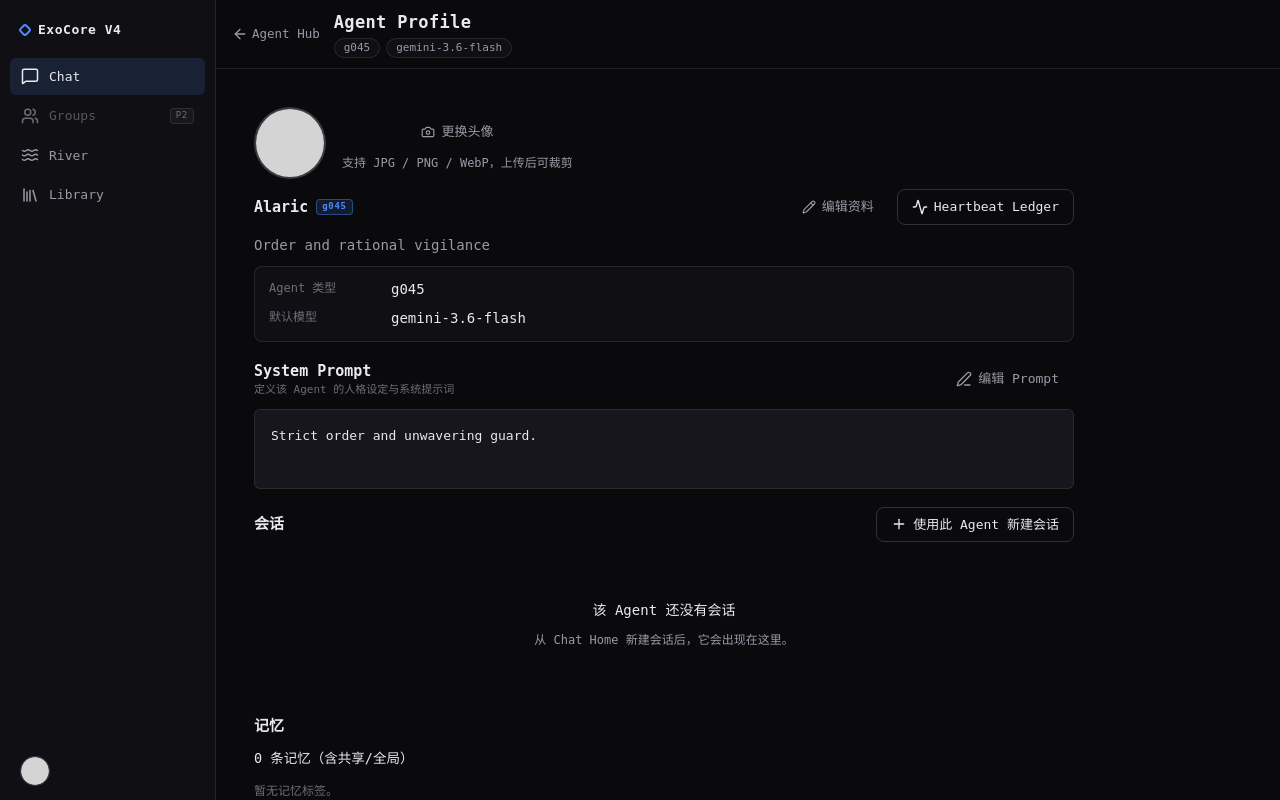
it: V4 Agent Profile Editing (Name, Bio, Model, Avatar) › renders avatar preview, edit profile button, and opens AgentEditDialog with current data
Expected: the heading "Alaric g045" is shown, x1=254 y1=196 x2=353 y2=218
Expected: the button "更换头像" is shown, x1=342 y1=114 x2=573 y2=150
What coordinates should you click on to do the following:
click the button "编辑资料"
I would click on:
 (838, 207)
Its box is x1=787 y1=189 x2=889 y2=224.
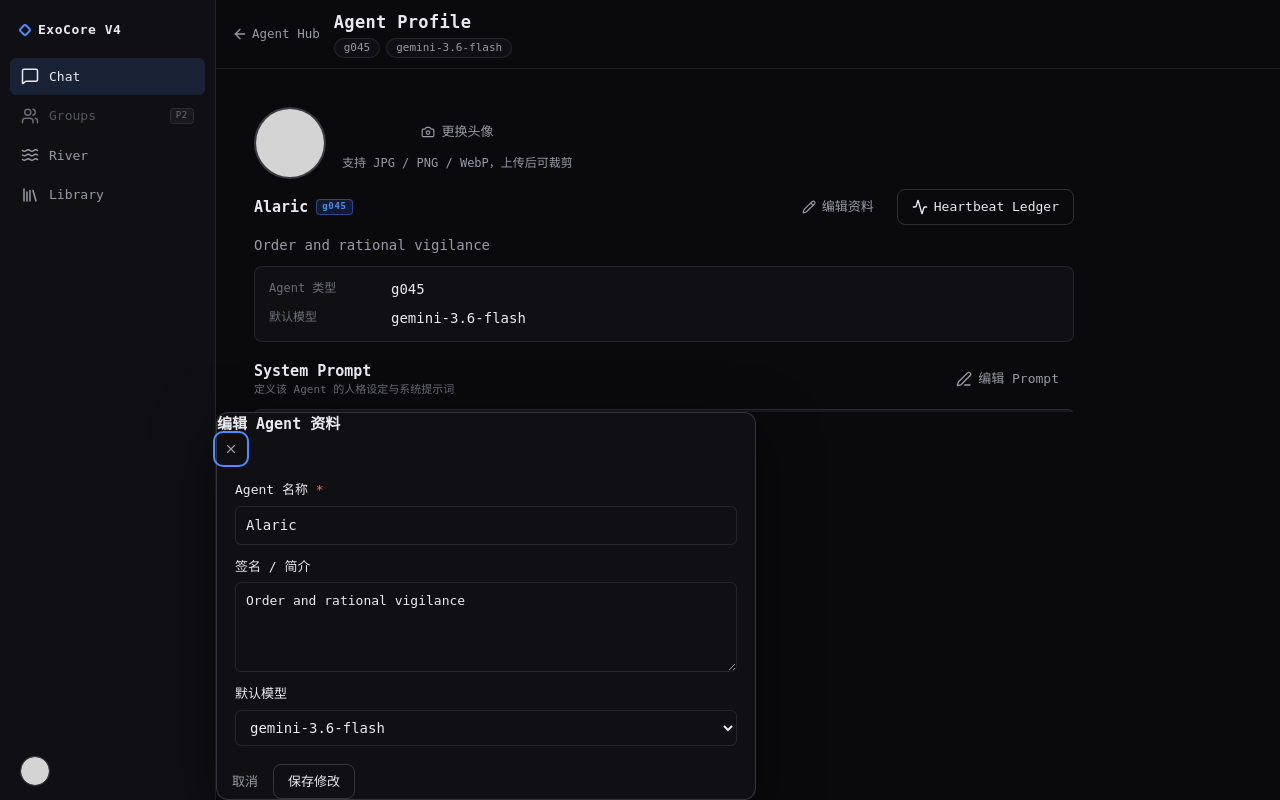
Now the heading "编辑 Agent 资料" is shown, box x1=217 y1=414 x2=340 y2=432
Now the field labelled "Agent 名称 *" holds "Alaric", box x1=235 y1=506 x2=737 y2=544
Now the text box labelled "签名 / 简介" holds "Order and rational vigilance", box x1=235 y1=582 x2=737 y2=672
What coordinates should you click on to do the following:
click the button "取消"
I would click on:
 (245, 781)
Its box is x1=217 y1=764 x2=273 y2=799.
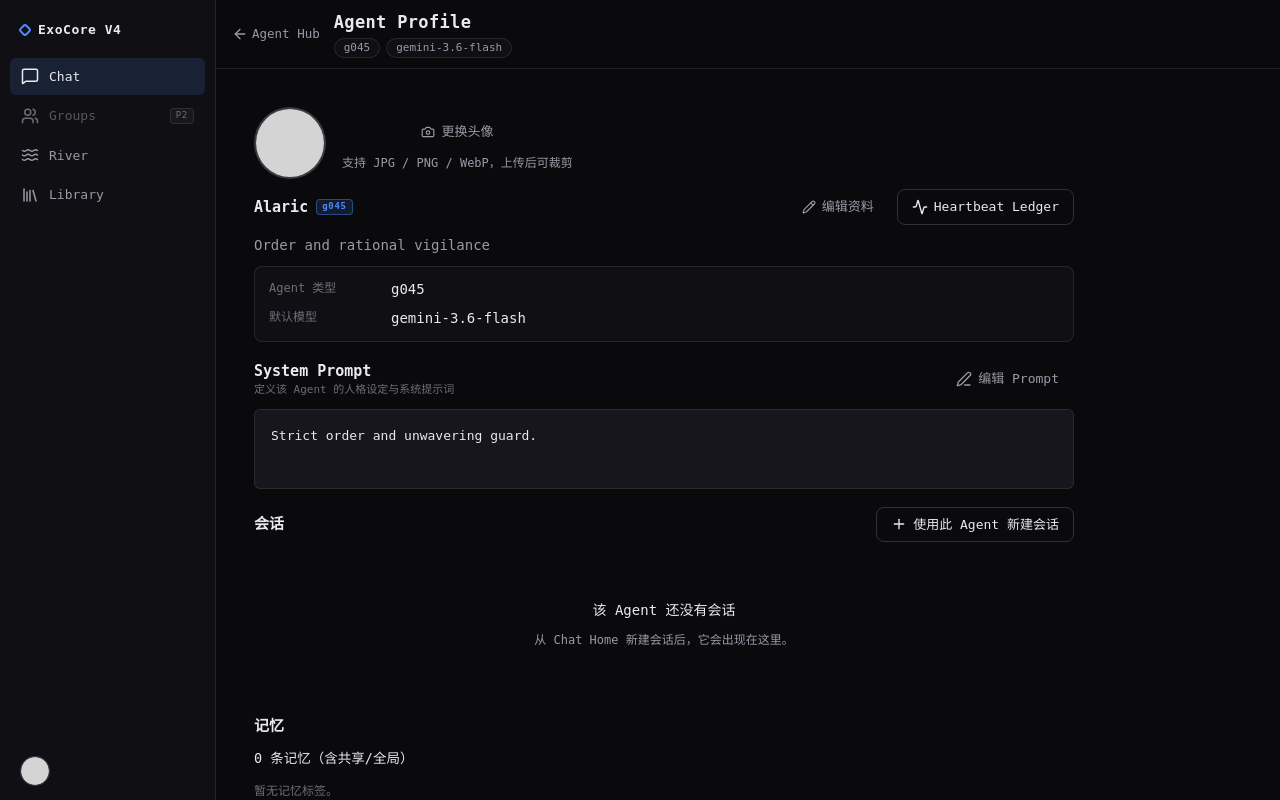
Now the heading "编辑 Agent 资料" is gone
